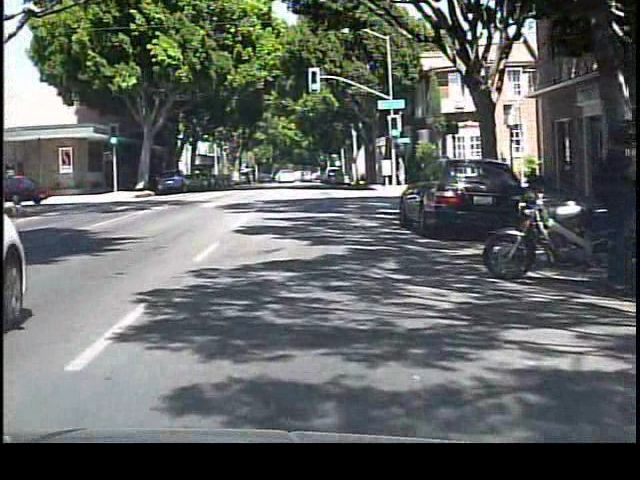person: (581, 136, 633, 295), (392, 156, 410, 191)
